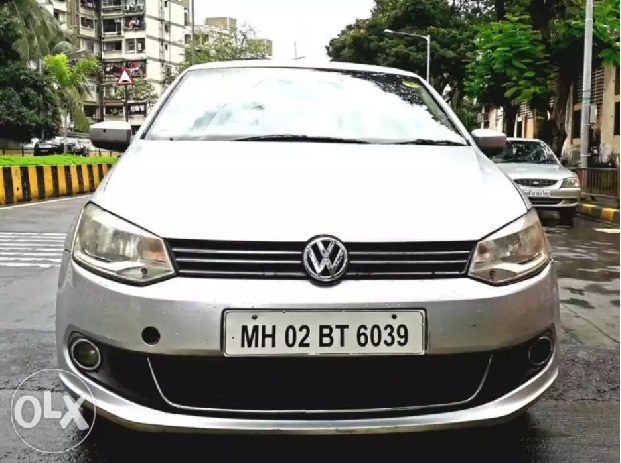licenseplate: (222, 302, 431, 361)
